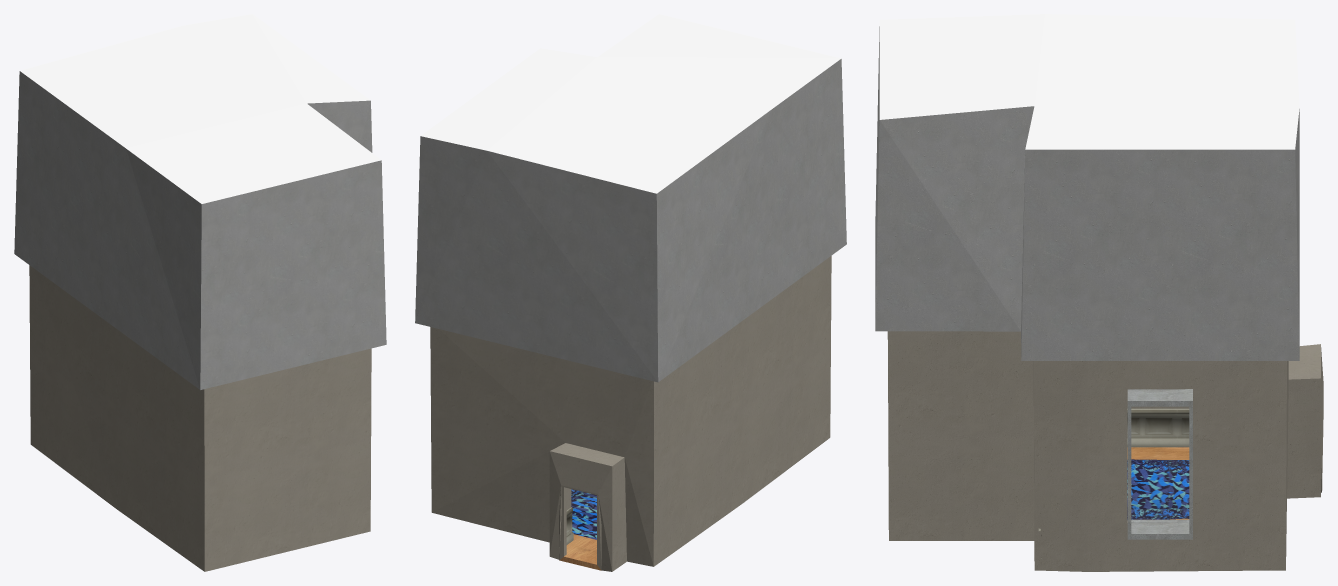
The model's file is srs_site433.glb.
The picture shows the model from 3 angles, left to right: view 1: azimuth 30°, elevation 25°; view 2: azimuth 150°, elevation 25°; view 3: azimuth 270°, elevation 25°; orthographic projection. The views are drawn at different scales.
Visible parts, largest first — view 1: ceiling-col, start-col; view 2: ceiling-col, start-col, rug-detail; view 3: ceiling-col, start-col, rug-detail, window-col, moulding-detail.
Boxes of the visible parts, <box> form: ceiling-col: <box>14,14,386,389</box>; start-col: <box>29,265,371,571</box>; ceiling-col: <box>415,14,846,382</box>; start-col: <box>430,256,831,571</box>; rug-detail: <box>571,489,596,539</box>; ceiling-col: <box>875,14,1299,360</box>; start-col: <box>887,331,1323,571</box>; rug-detail: <box>1127,459,1189,519</box>; window-col: <box>1127,389,1192,539</box>; moulding-detail: <box>1038,408,1189,558</box>.
Size of what is drawn, in the model's own units: 9.58 by 13.95 by 12.97.
Materials: 8 (7 with a texture image).
